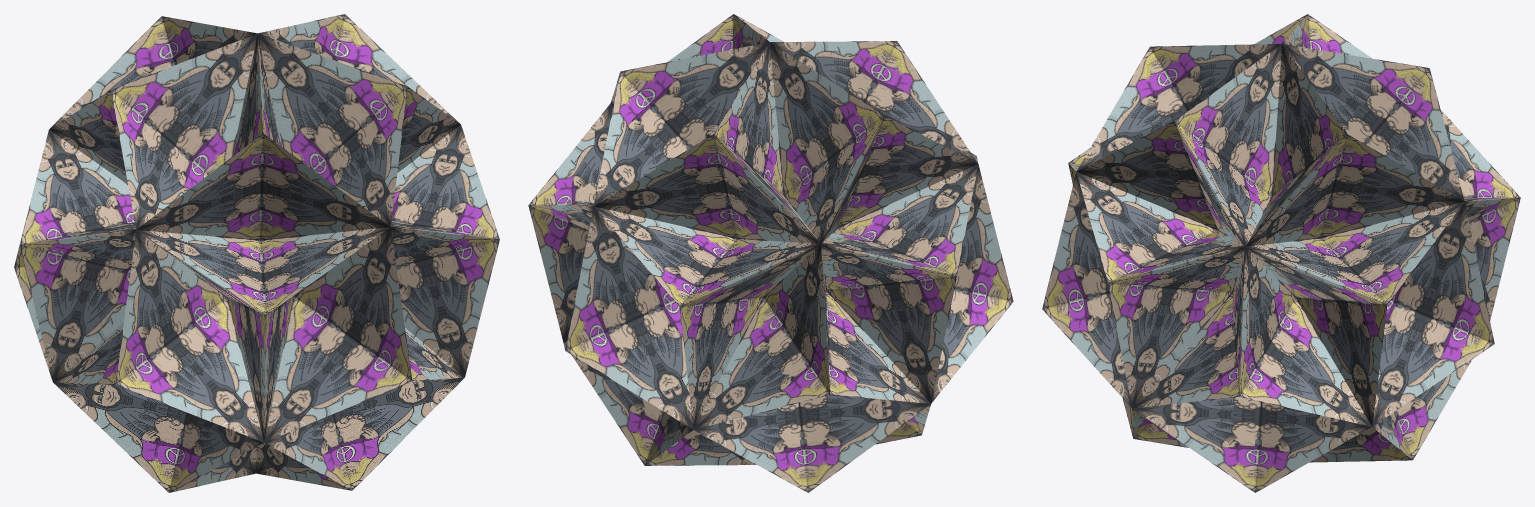
The model's file is Mobius120b25.obj.
The picture shows the model from 3 angles, left to right: view 1: azimuth 30°, elevation 25°; view 2: azimuth 150°, elevation 25°; view 3: azimuth 270°, elevation 25°; orthographic projection. The views are drawn at different scales.
Size of the model in its own units: 3.09 by 3.02 by 3.11.
1 material, 1 textured.
